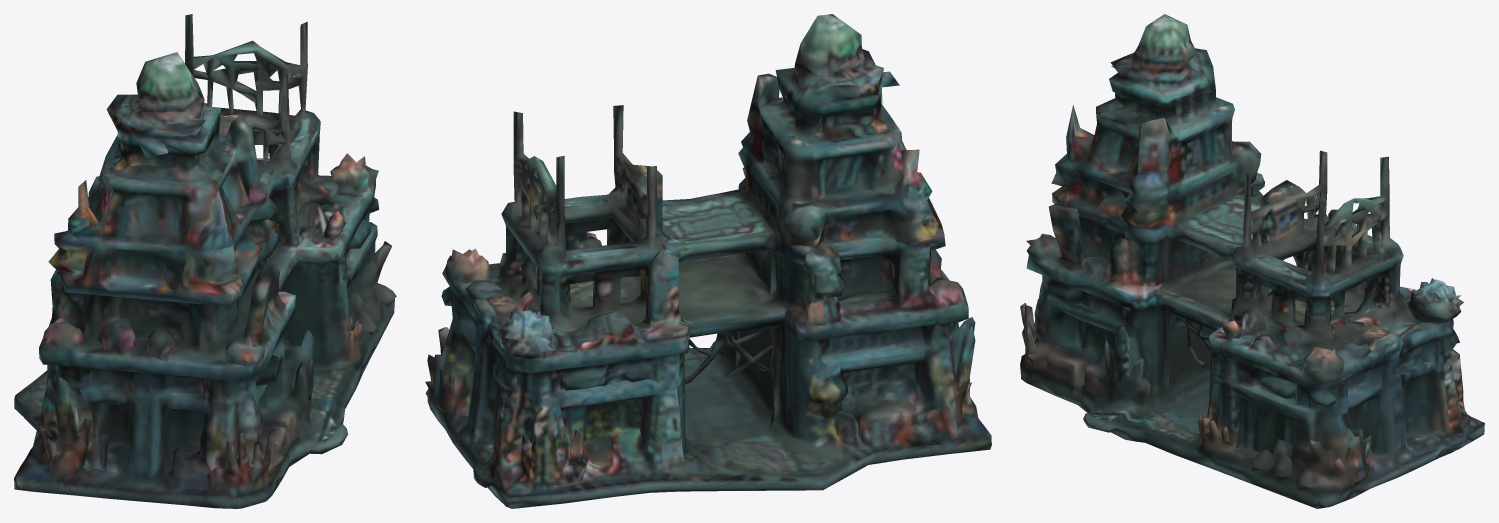
The model's file is Edificio_Peque_o_Lado_Altar_Grande.glb.
The picture shows the model from 3 angles, left to right: view 1: azimuth 30°, elevation 25°; view 2: azimuth 150°, elevation 25°; view 3: azimuth 270°, elevation 25°; orthographic projection. The views are drawn at different scales.
Parts seen in each view (by area): view 1: Edificio Pequeño Lado Altar Grande; view 2: Edificio Pequeño Lado Altar Grande; view 3: Edificio Pequeño Lado Altar Grande.
Part boxes in pixels (x1=…): Edificio Pequeño Lado Altar Grande: x1=14, y1=14, x2=396, y2=508; Edificio Pequeño Lado Altar Grande: x1=425, y1=14, x2=991, y2=508; Edificio Pequeño Lado Altar Grande: x1=1020, y1=14, x2=1484, y2=508.
Bounding box in the file's own units: 0.2122 × 0.1707 × 0.2024.
Materials: 1 (1 with a texture image).
